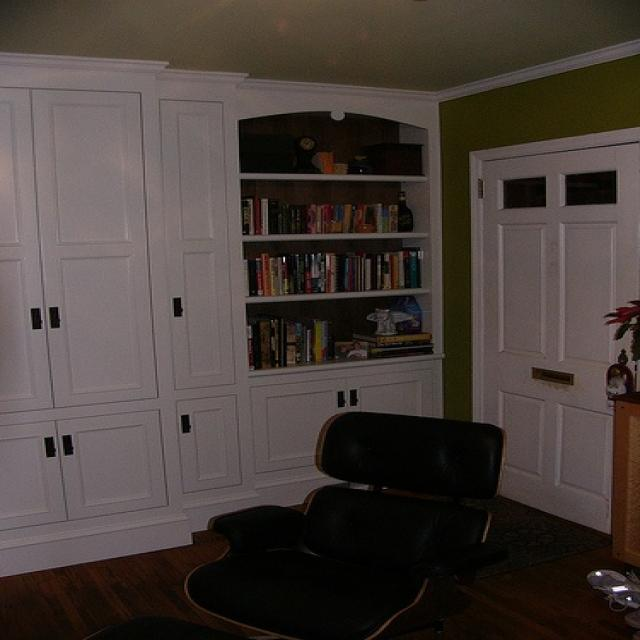chair: (181, 411, 510, 639)
